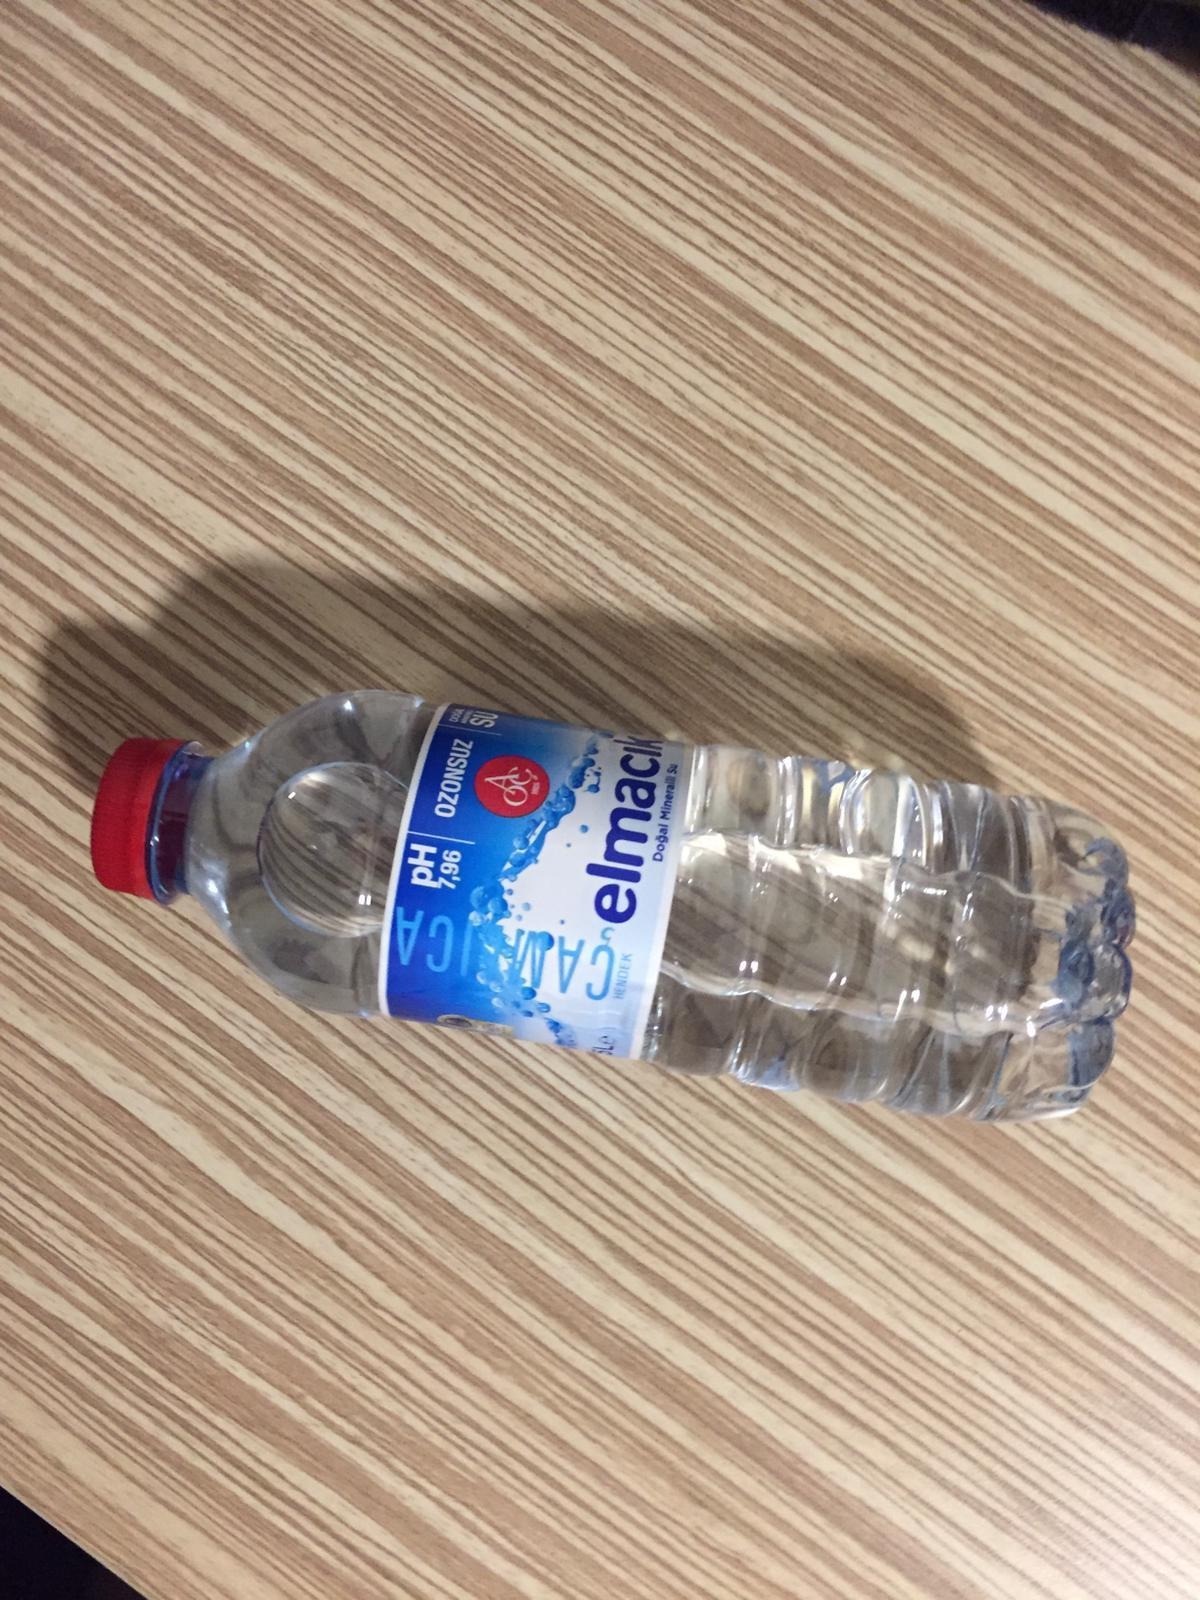bottle: (94, 670, 1140, 1118)
